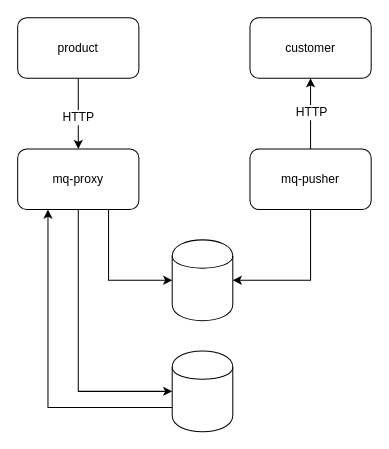
The diagram is 389 pixels wide and 449 high, and some of its shapes have lost their labels. The centre of each missing label's shape, as x and y in pixels:
"kafka" goes at (x=202, y=280).
"Redis" goes at (x=202, y=391).
